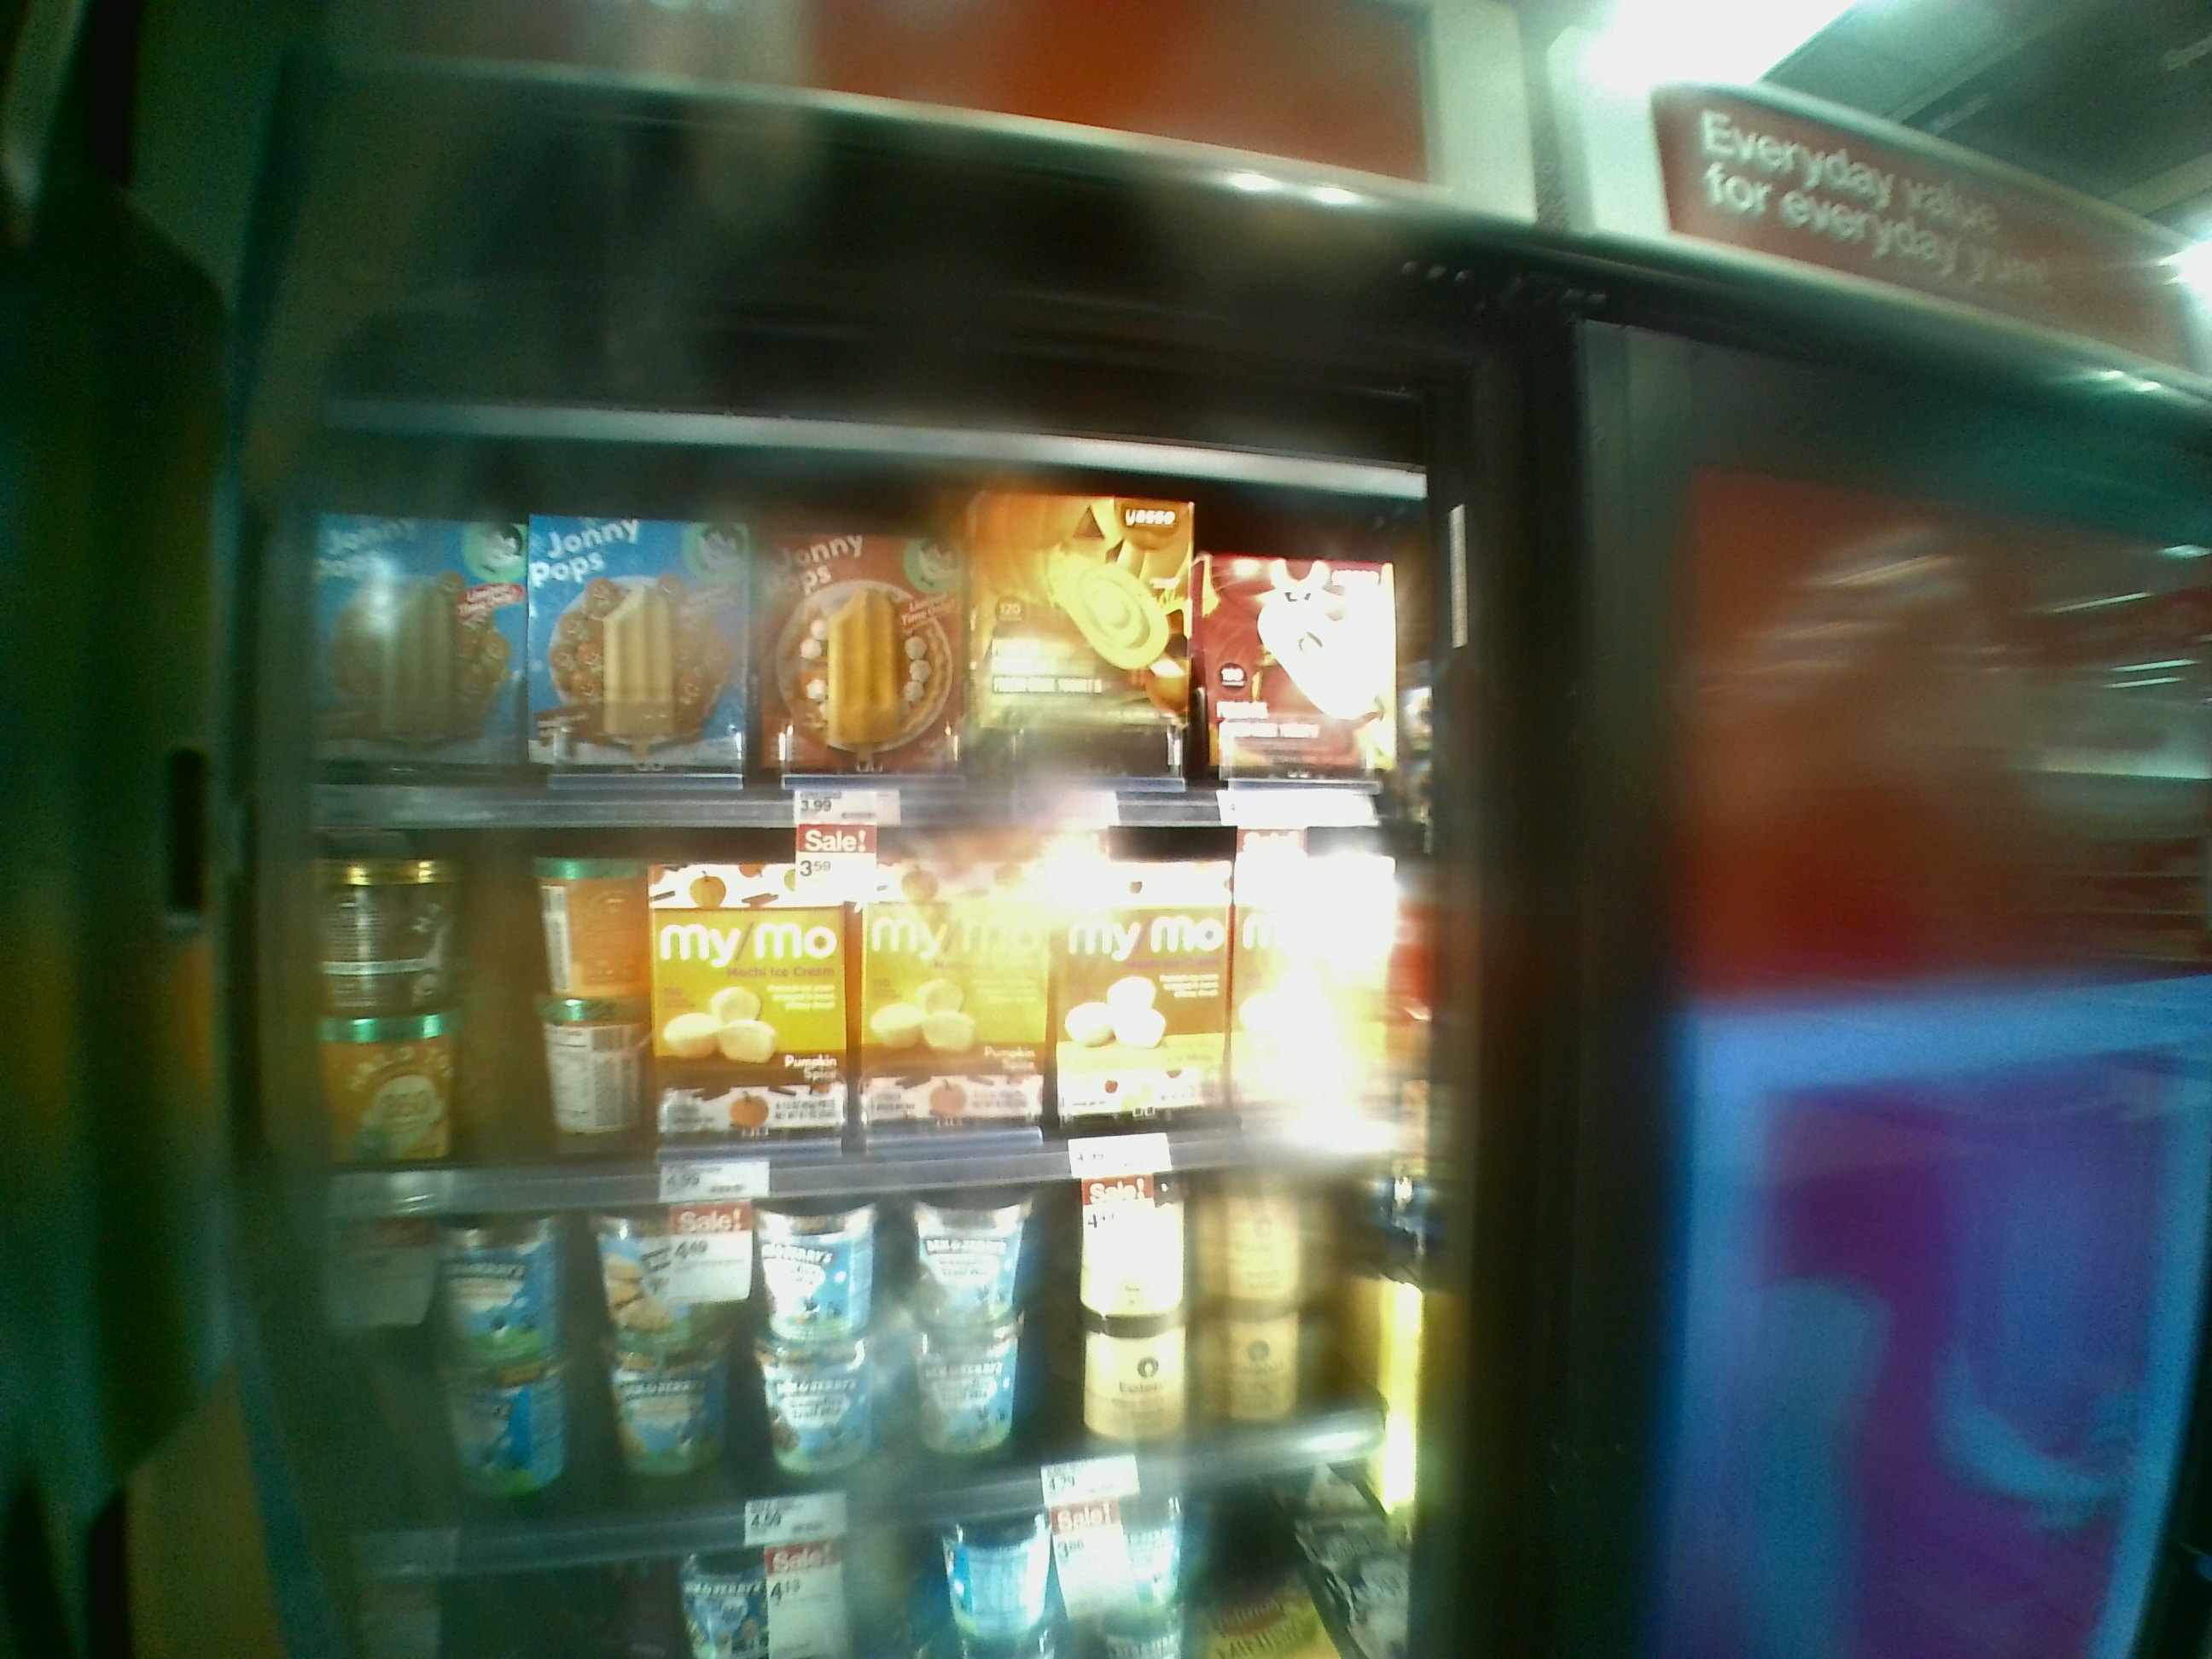shelf: (286, 422, 1432, 826), (289, 816, 1400, 1190), (296, 1180, 1428, 1521)
